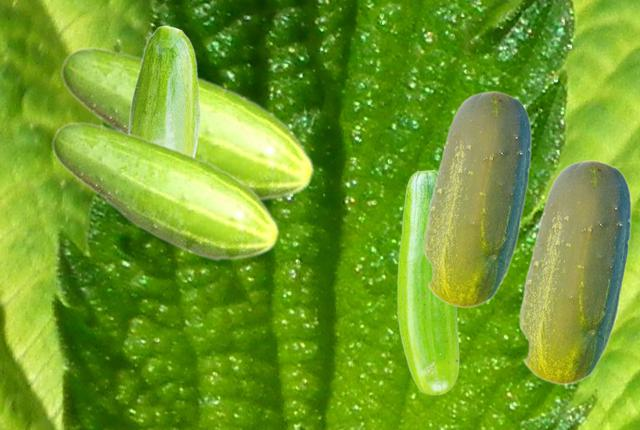cucumber: (60, 46, 314, 202), (51, 121, 279, 261), (518, 159, 630, 384), (422, 90, 530, 307), (397, 169, 458, 394), (128, 25, 199, 154)
